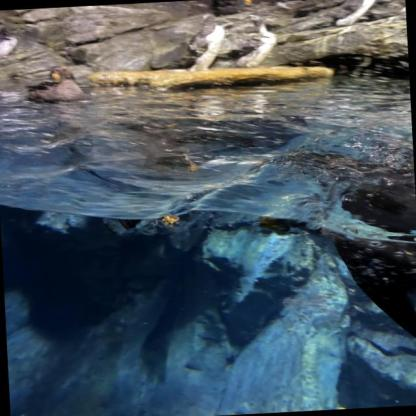puffin: (29, 64, 88, 106)
